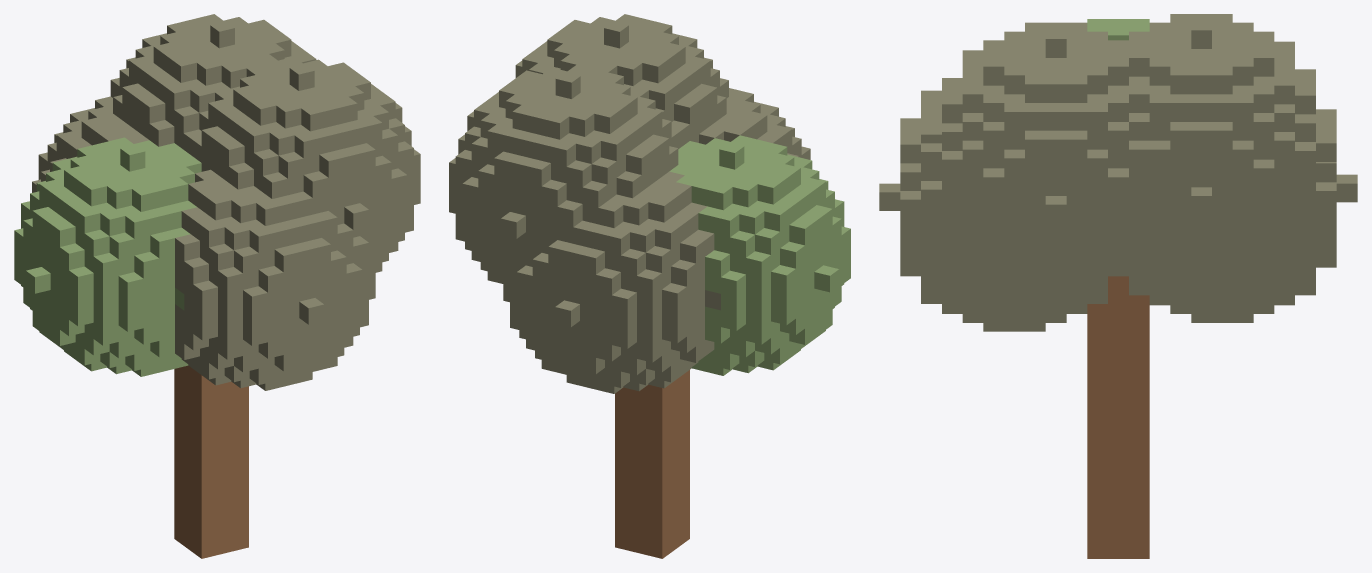
File: civic-12.glb
3 views of the same model, side by side, from view 1: azimuth 30°, elevation 25°; view 2: azimuth 150°, elevation 25°; view 3: azimuth 270°, elevation 25° (orthographic). The views are drawn at different scales.
Parts seen in each view (by area): view 1: City tree; view 2: City tree; view 3: City tree.
Boxes of the visible parts, x1,y1,x2,y2 form: City tree: (14,14,420,558); City tree: (449,14,850,558); City tree: (879,14,1357,558).
Bounding box in the file's own units: 1.76 × 2.32 × 1.84.
